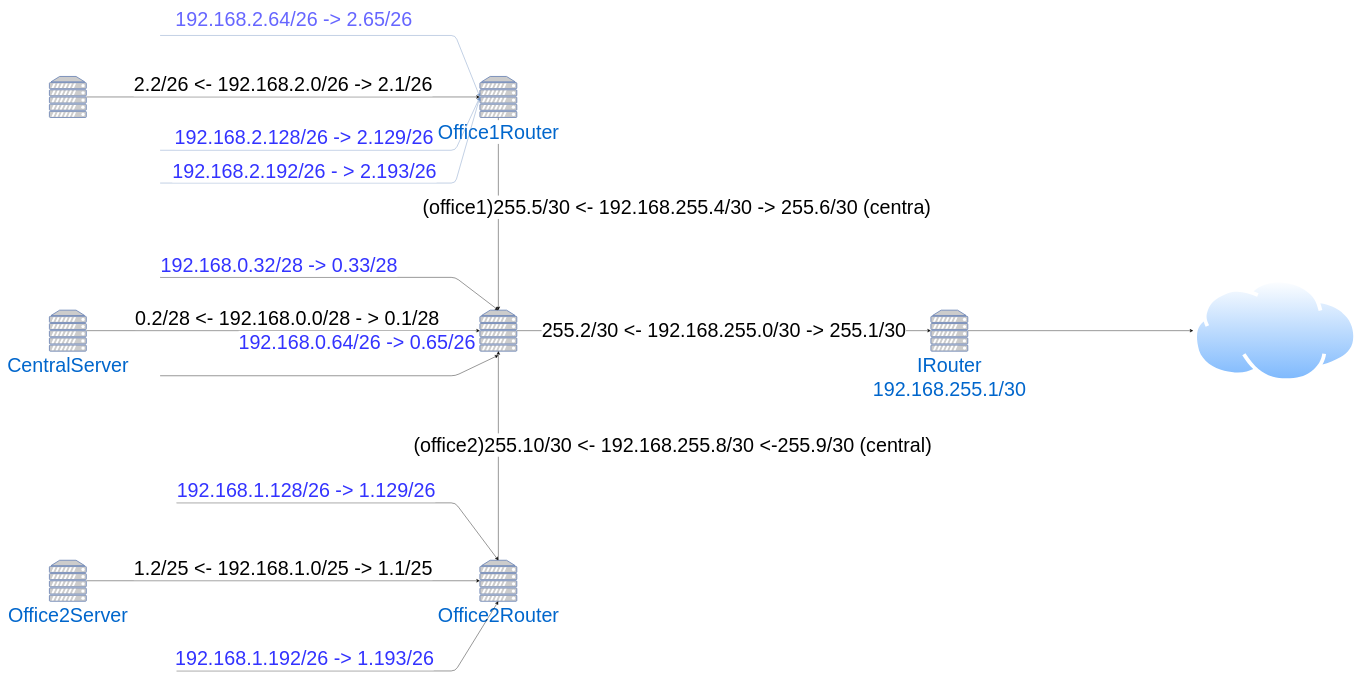
This 1364x681 diagram has some shape labels left out. Here are the shapes that lost their labels. From the top down, the centre of each, then its label:
pixel 68 97: Office1Server
pixel 498 330: CentralRouter
pixel 1275 330: Internet
